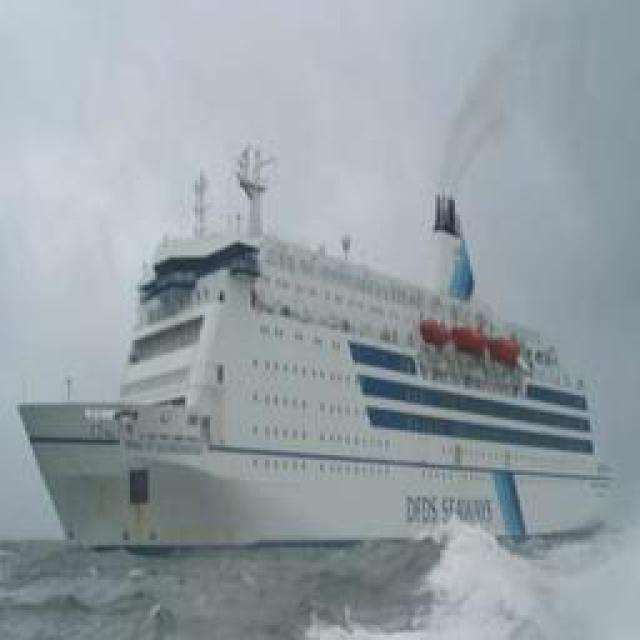Ship: (24, 219, 614, 559)
